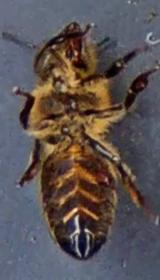varroa_mite: (91, 170, 112, 188)
